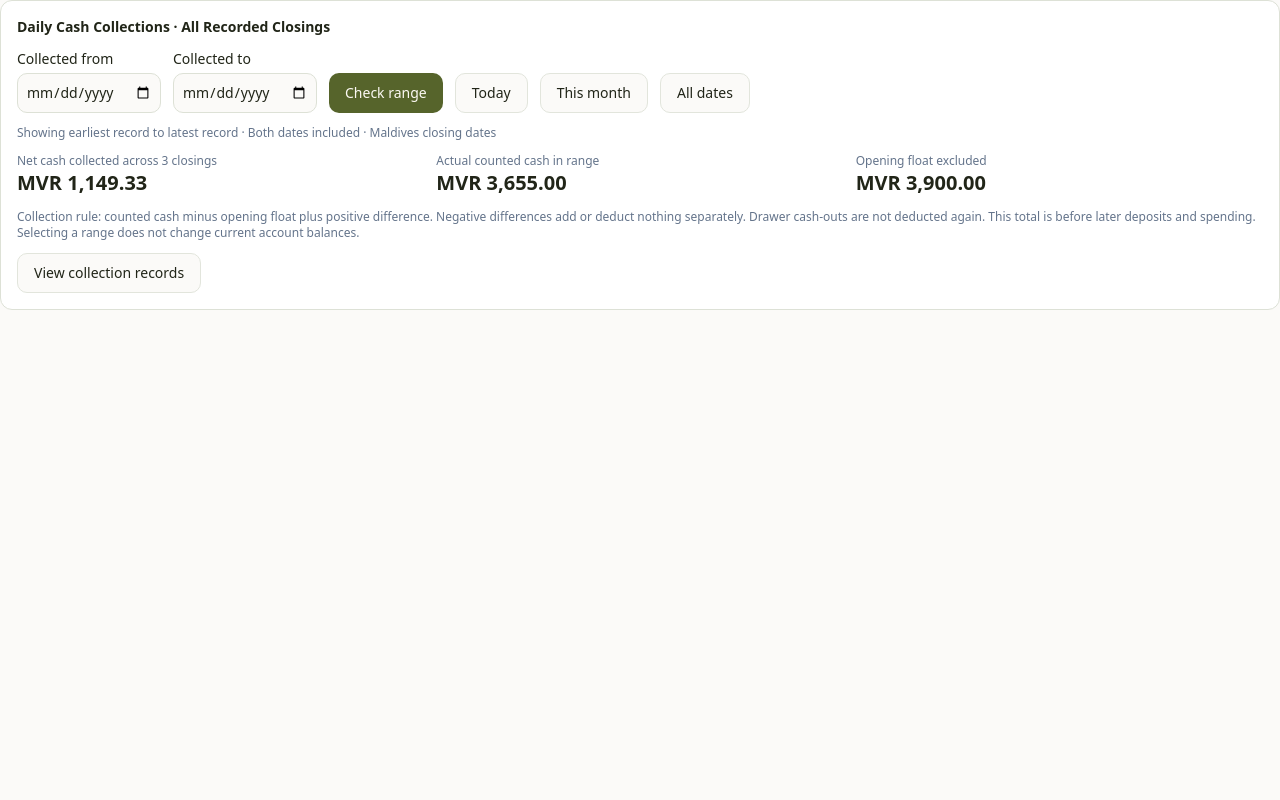
cash collection range › checks records and net collections, then resets to all dates
The width and height of the screenshot is (1280, 800).
Type "2026-10-01" into the date field labelled "Collected from" at [89, 93], box 17,73 -> 161,113
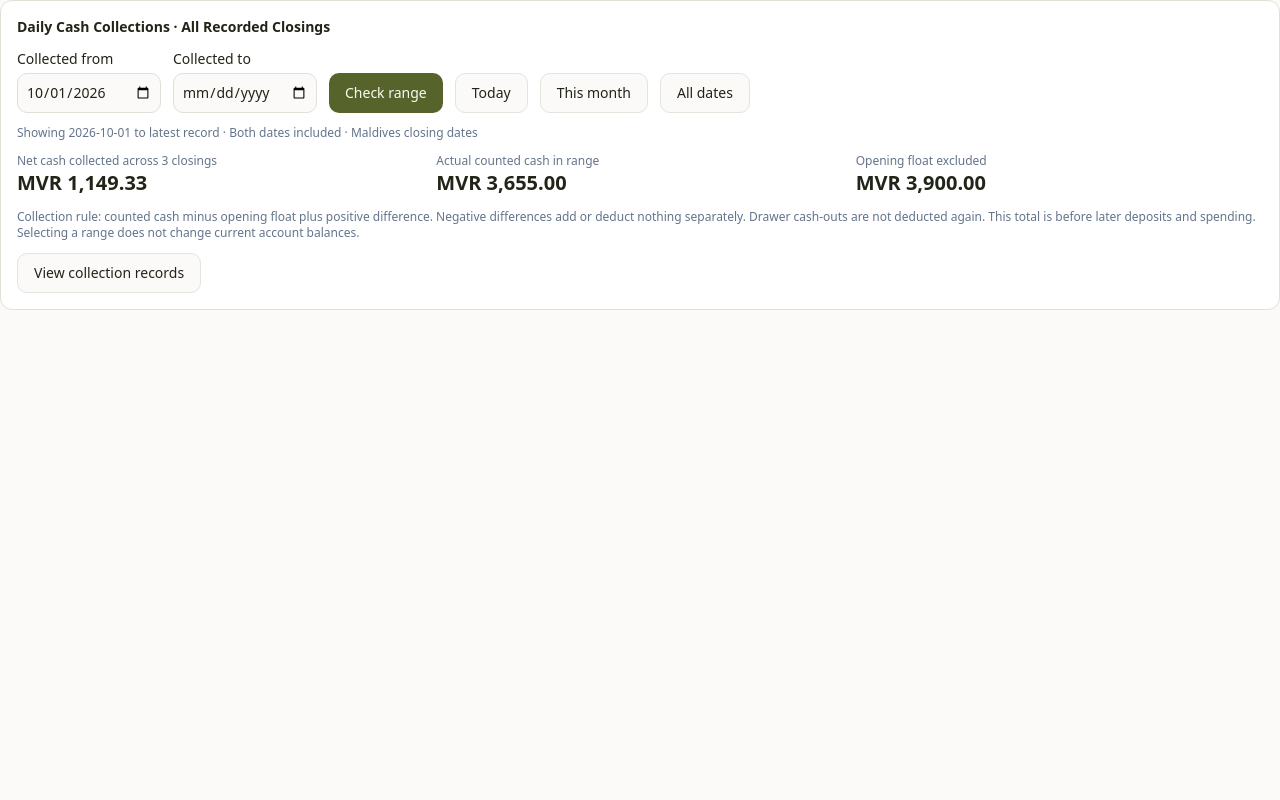
Type "2026-10-02" into the date field labelled "Collected to" at [245, 93], box 173,73 -> 317,113
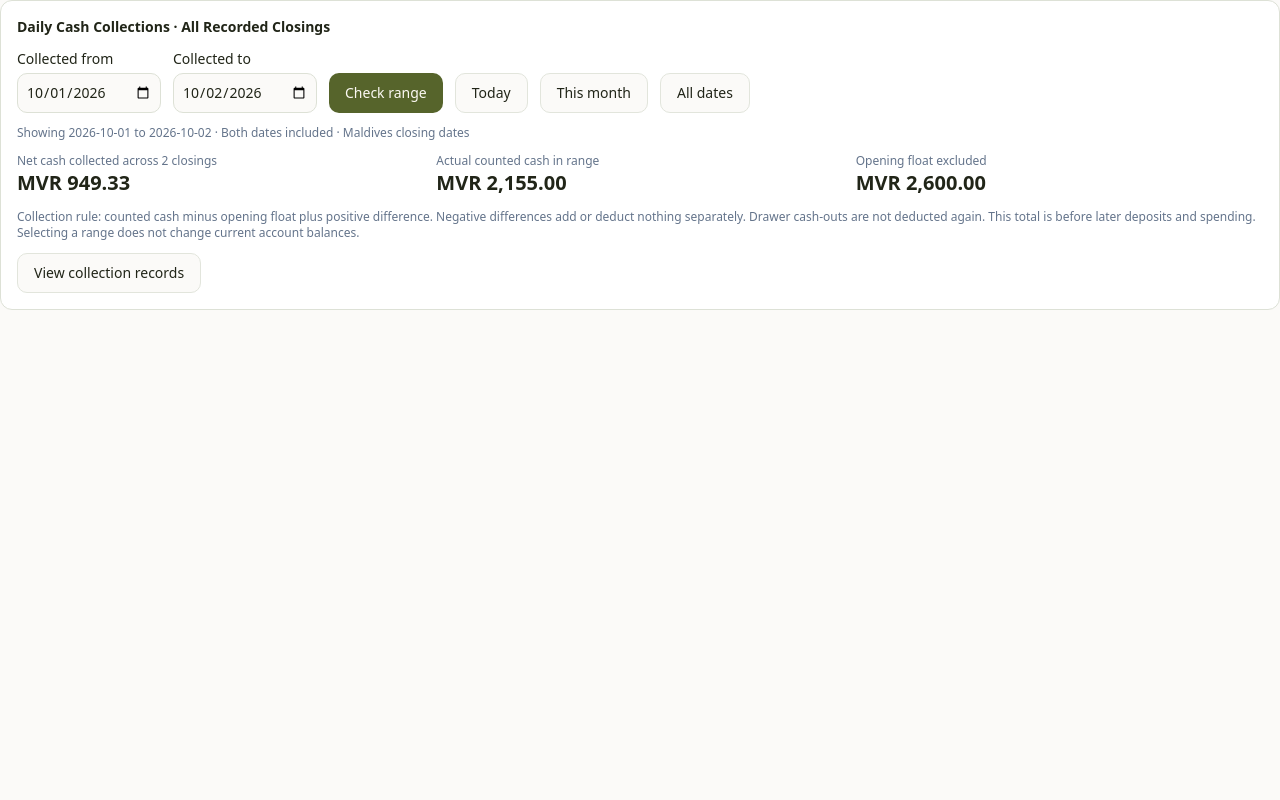
Result: the text with test id "collection-net" reads "MVR 949.33" at 17,169 -> 130,196
Result: the message shows "2026-10-01 to 2026-10-02" at 17,124 -> 470,141
Click the button "Check range" at [386, 93], box 329,73 -> 443,113
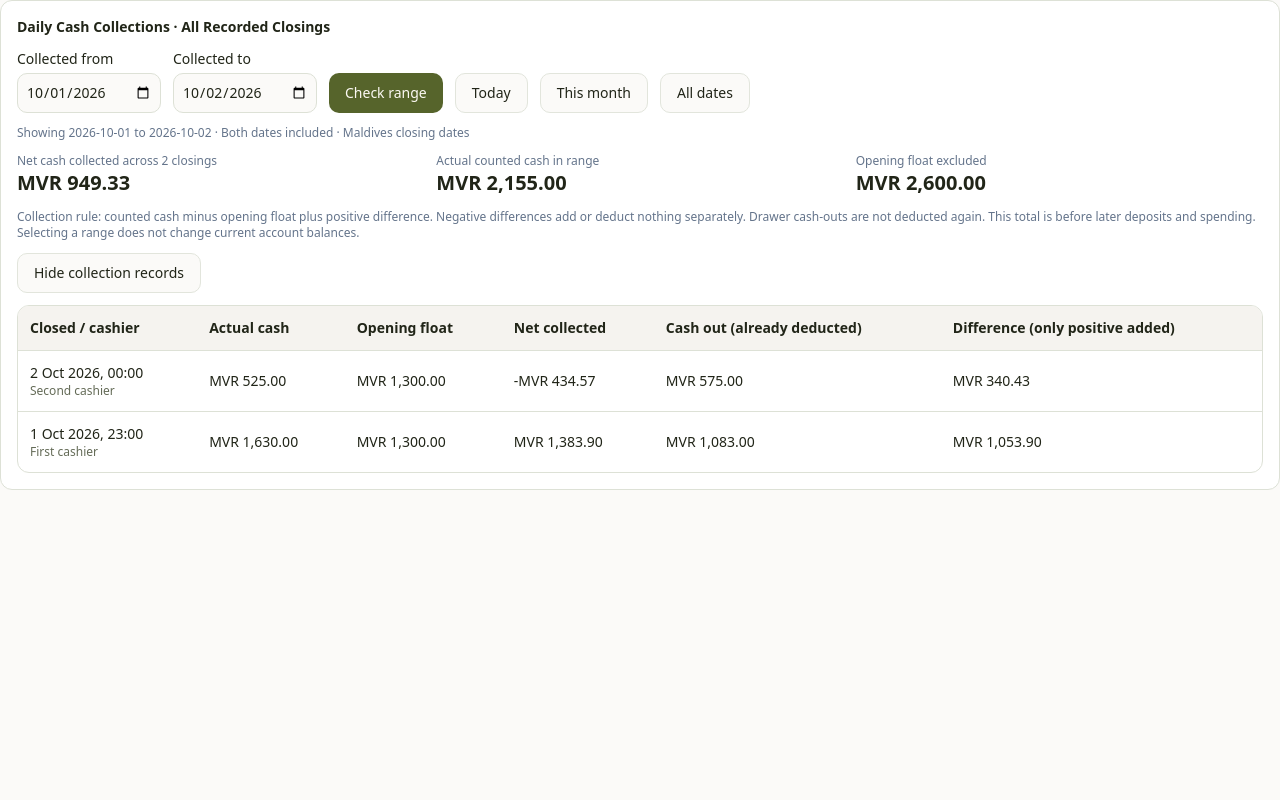
Expected: the text "Third cashier" is not shown
Result: the text "First cashier" is shown at 30,443 -> 98,460
Click the button "All dates" at [705, 93], box 660,73 -> 750,113
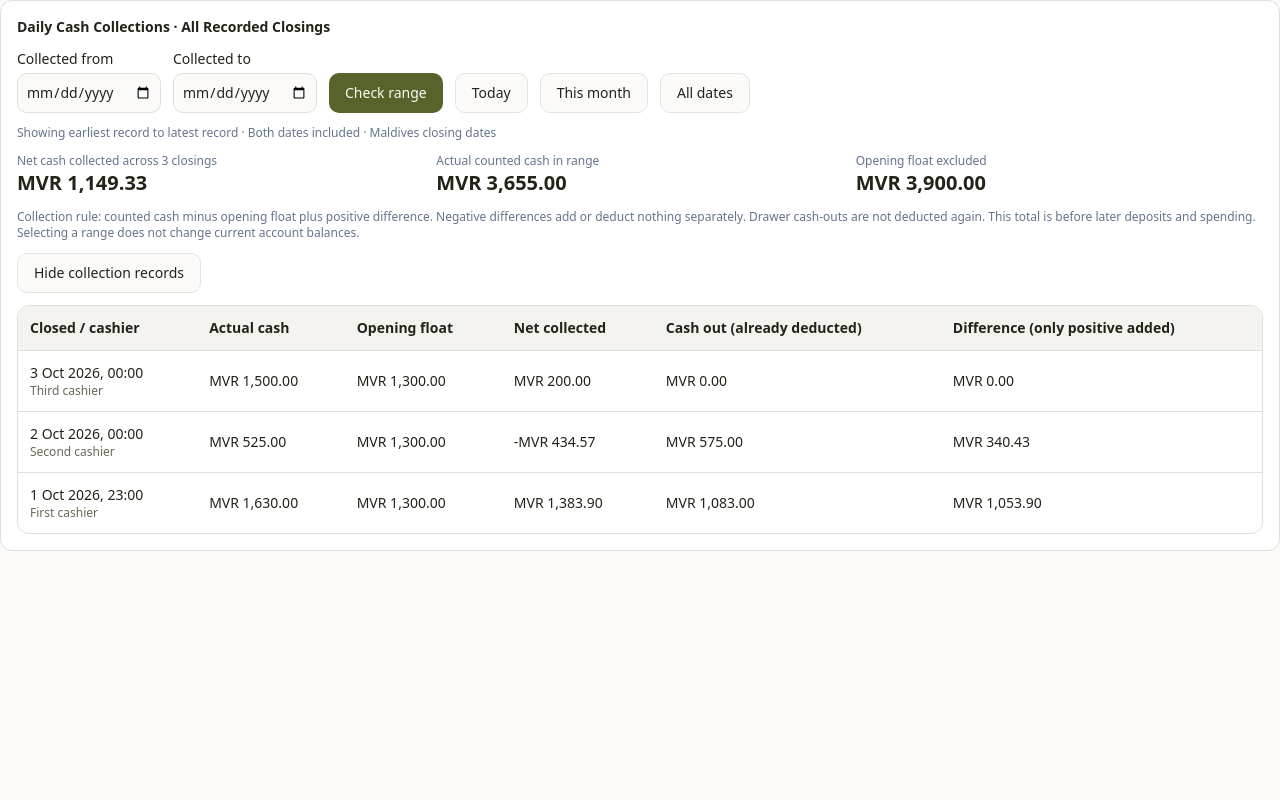
Result: the text "Third cashier" is shown at 30,382 -> 103,399
Result: the text with test id "collection-net" shows "1,149.33" at 17,169 -> 147,196
